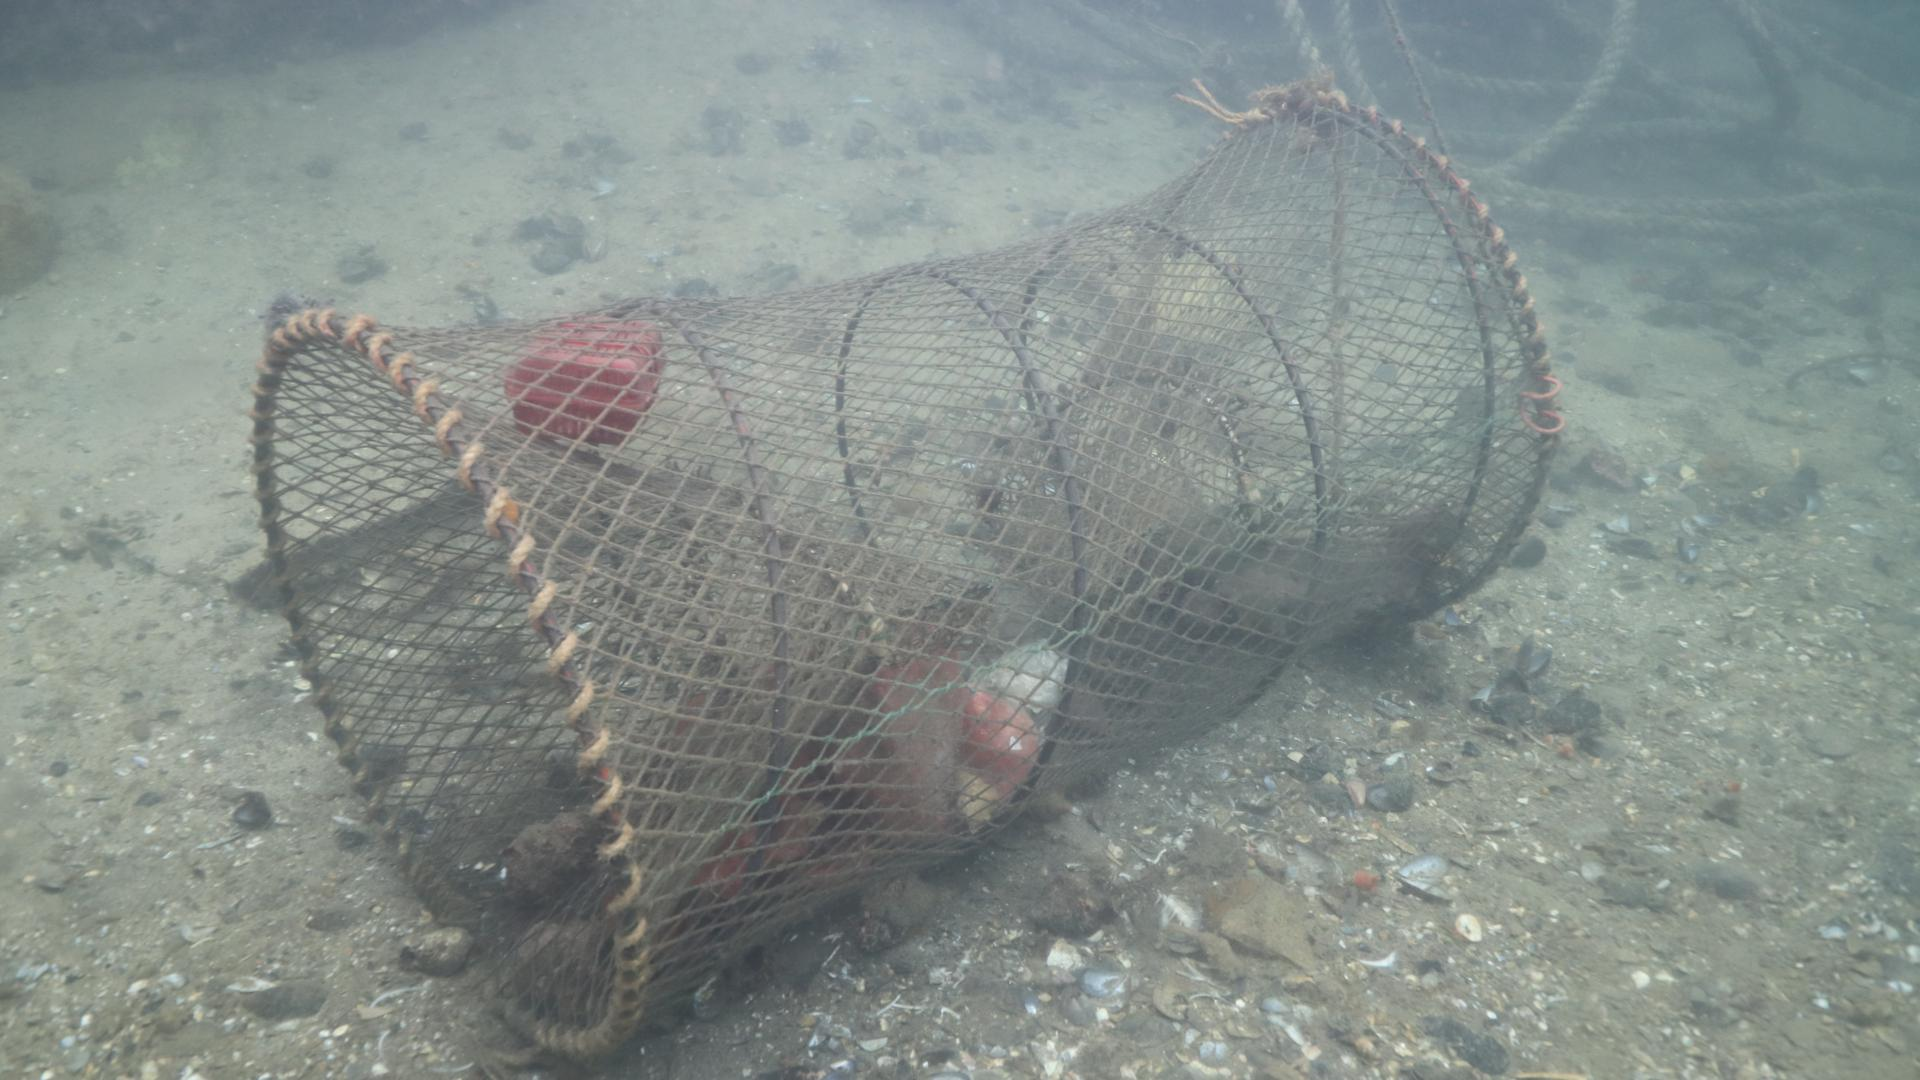bundle of ropes: (1054, 0, 1920, 239)
spring fish trap: (248, 88, 1563, 1064)
